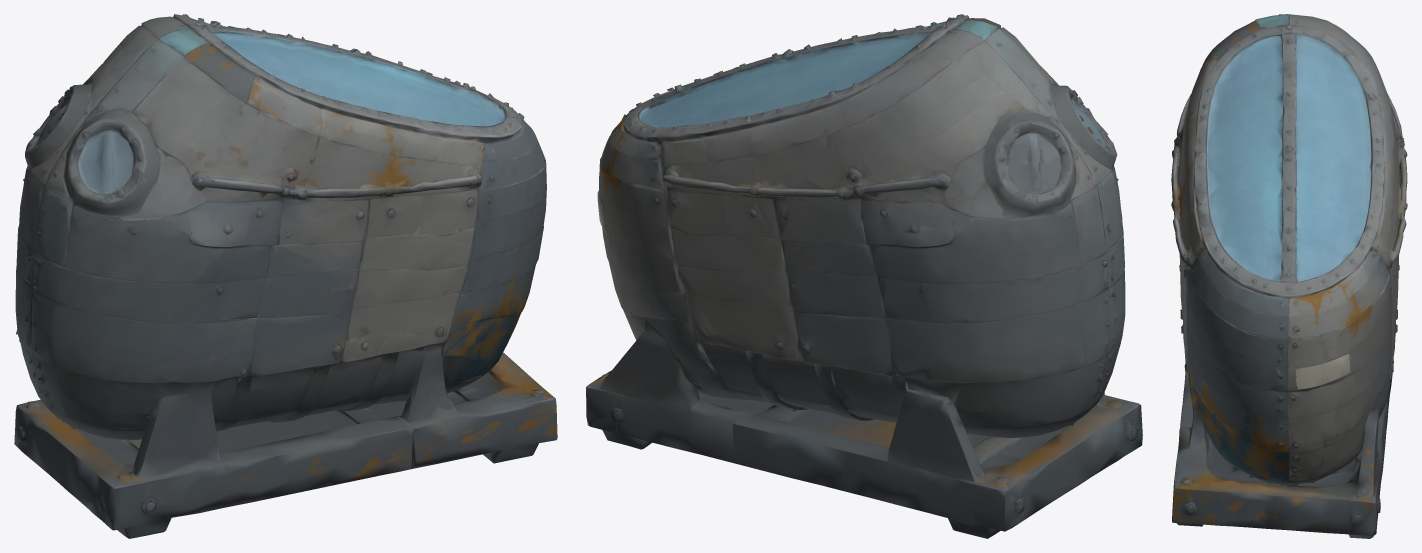
The model's file is pod-p2.glb.
The picture shows the model from 3 angles, left to right: view 1: azimuth 30°, elevation 25°; view 2: azimuth 150°, elevation 25°; view 3: azimuth 270°, elevation 25°; orthographic projection. The views are drawn at different scales.
Parts seen in each view (by area): view 1: tripo_node_61e857df-00a5-429c-b3ea-2eb54afed29e; view 2: tripo_node_61e857df-00a5-429c-b3ea-2eb54afed29e; view 3: tripo_node_61e857df-00a5-429c-b3ea-2eb54afed29e.
Boxes of the visible parts, <box> form: tripo_node_61e857df-00a5-429c-b3ea-2eb54afed29e: <box>14,14,557,538</box>; tripo_node_61e857df-00a5-429c-b3ea-2eb54afed29e: <box>586,14,1142,538</box>; tripo_node_61e857df-00a5-429c-b3ea-2eb54afed29e: <box>1171,14,1407,538</box>.
Size of the model in its own units: 1.4 by 1.2 by 0.658.
1 material, 1 textured.
